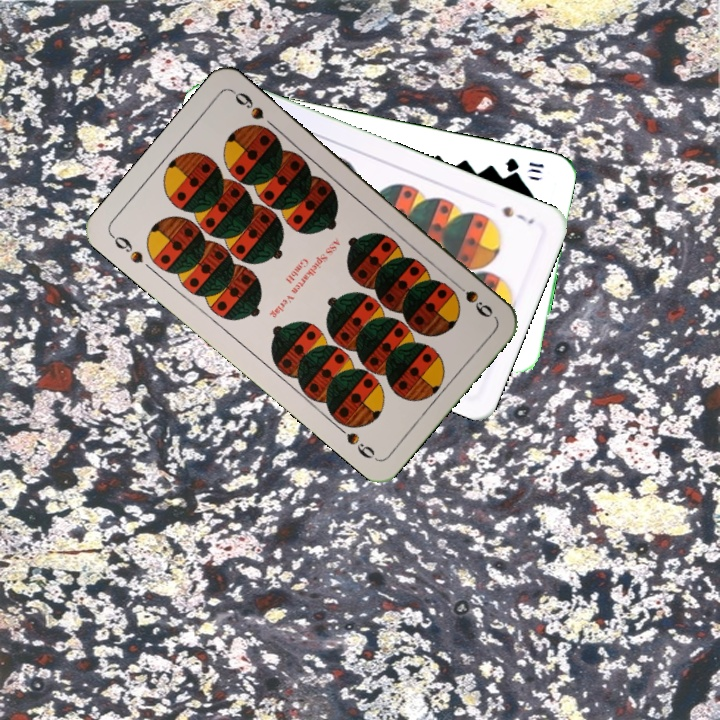G10: (502, 154, 547, 176)
S7: (498, 202, 537, 227)
S9: (448, 276, 496, 321), (107, 230, 146, 266)
